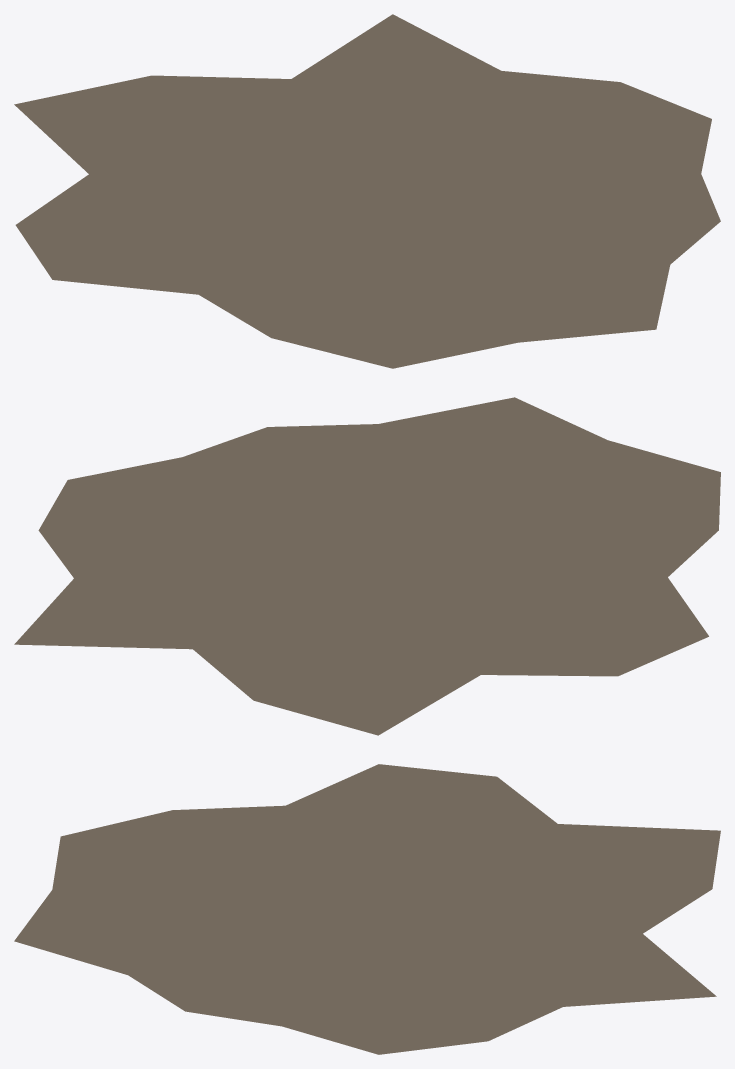
The model's file is mud_patch_b.glb.
The picture shows the model from 3 angles, top to bottom: view 1: azimuth 30°, elevation 25°; view 2: azimuth 150°, elevation 25°; view 3: azimuth 270°, elevation 25°; orthographic projection. The views are drawn at different scales.
Visible parts, largest first — view 1: mud_patch_b; view 2: mud_patch_b; view 3: mud_patch_b.
Boxes of the visible parts, bbox=[...] form: mud_patch_b: bbox=[14, 14, 720, 368]; mud_patch_b: bbox=[14, 397, 720, 735]; mud_patch_b: bbox=[14, 764, 720, 1054].
Bounding box in the file's own units: 3.09 × 0 × 3.18.
